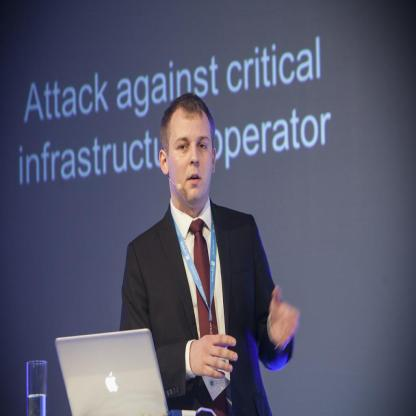board: (52, 328, 174, 411)
